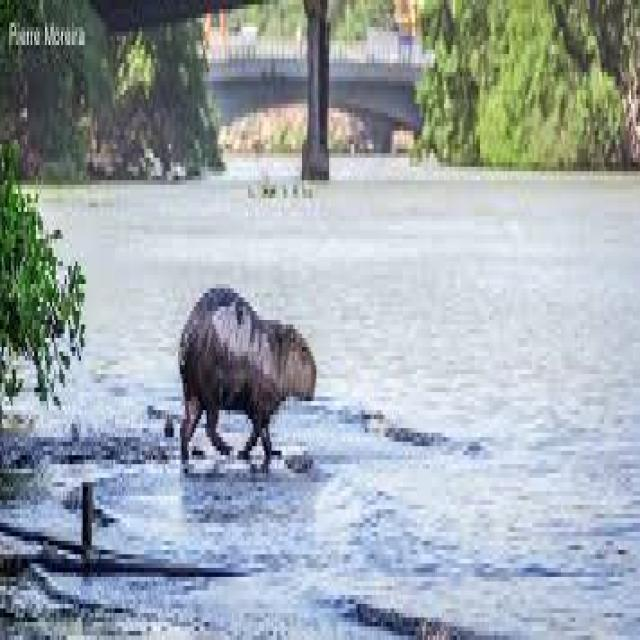capy: (176, 281, 316, 479)
